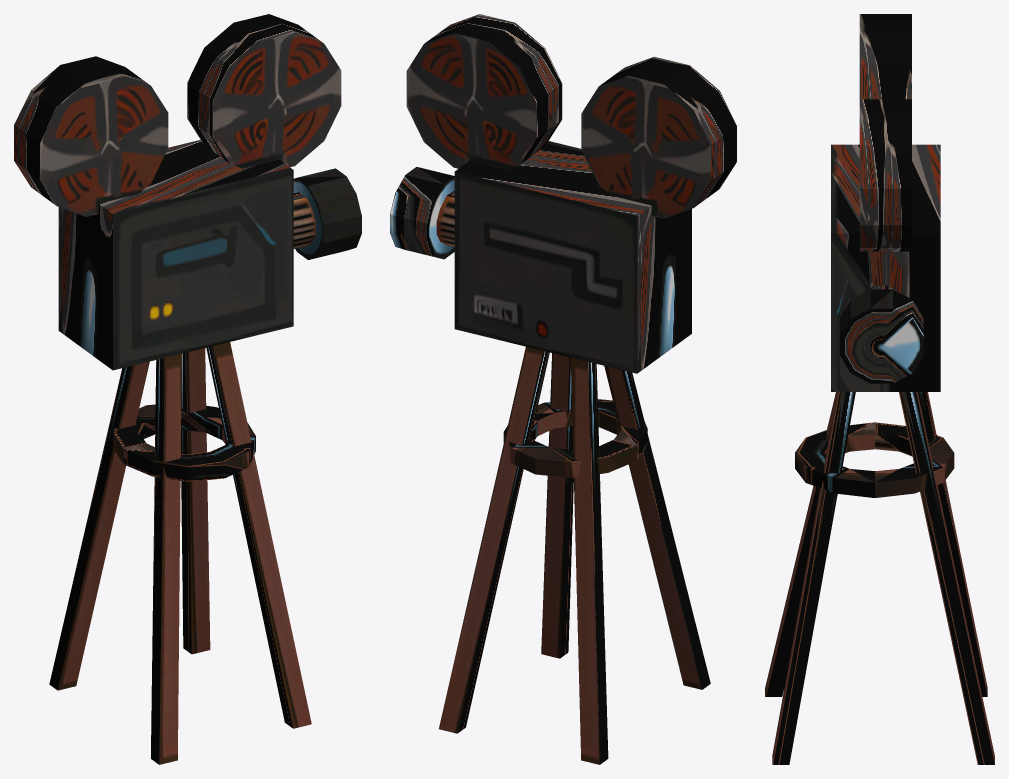
Rendered from movcam.glb.
3 renders of one model, left to right at view 1: azimuth 30°, elevation 25°; view 2: azimuth 150°, elevation 25°; view 3: azimuth 270°, elevation 25°, orthographic.
Visible parts, largest first — view 1: movcam; view 2: movcam; view 3: movcam.
Boxes of the visible parts, x1=… form: movcam: x1=14, y1=14, x2=361, y2=764; movcam: x1=390, y1=14, x2=736, y2=764; movcam: x1=765, y1=14, x2=994, y2=764.
Bounding box in the file's own units: 106 × 213 × 67.
1 material, 1 textured.
